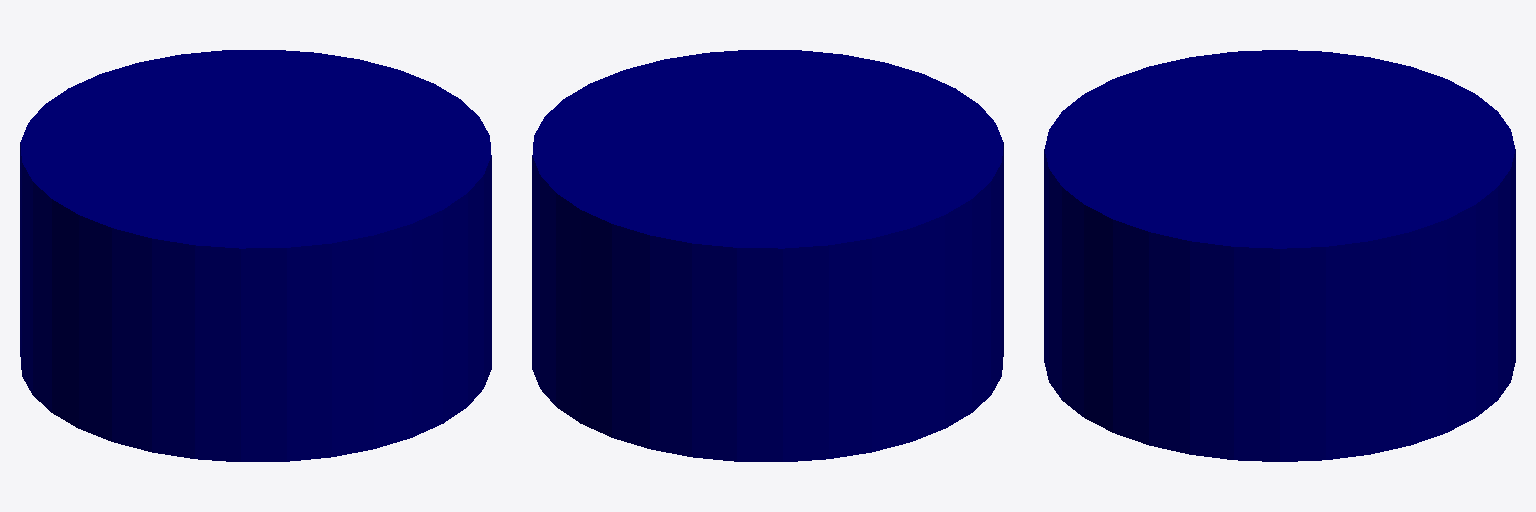
robot.urdf — my_robot:
<?xml version="1.0"?>

<robot name="my_robot">
    <material name="blue">
        <color rgba="0 0 0.5 1" />
    </material>
    <link name="base_link">
        <visual>
            <geometry>
                <!-- <box size="1 1 1" /> -->
                <cylinder radius="0.1" length="0.1" />
                <!-- <sphere radius="0.1" /> -->
            </geometry>
            <origin xyz="0 0 0" rpy="0 0 0" />
            <material name="blue" />
        </visual>
    </link>
</robot>

--- Render facts (derived) ---
3 views of the same robot in one strip: view 1: azimuth 30°, elevation 25°; view 2: azimuth 150°, elevation 25°; view 3: azimuth 270°, elevation 25° (orthographic).
Robot: my_robot — 1 links, 0 joints (none); root link base_link; default pose: all joints at 0.
Links seen in each view (by area): view 1: base_link; view 2: base_link; view 3: base_link.
Link boxes in pixels (x1,y1,x2,y2): base_link: [20, 50, 491, 461]; base_link: [532, 50, 1003, 461]; base_link: [1044, 50, 1515, 461].
Size in the robot's own frame: 0.2 by 0.2 by 0.1 metres.
Geometry: primitives only (box / cylinder / sphere), no mesh files.